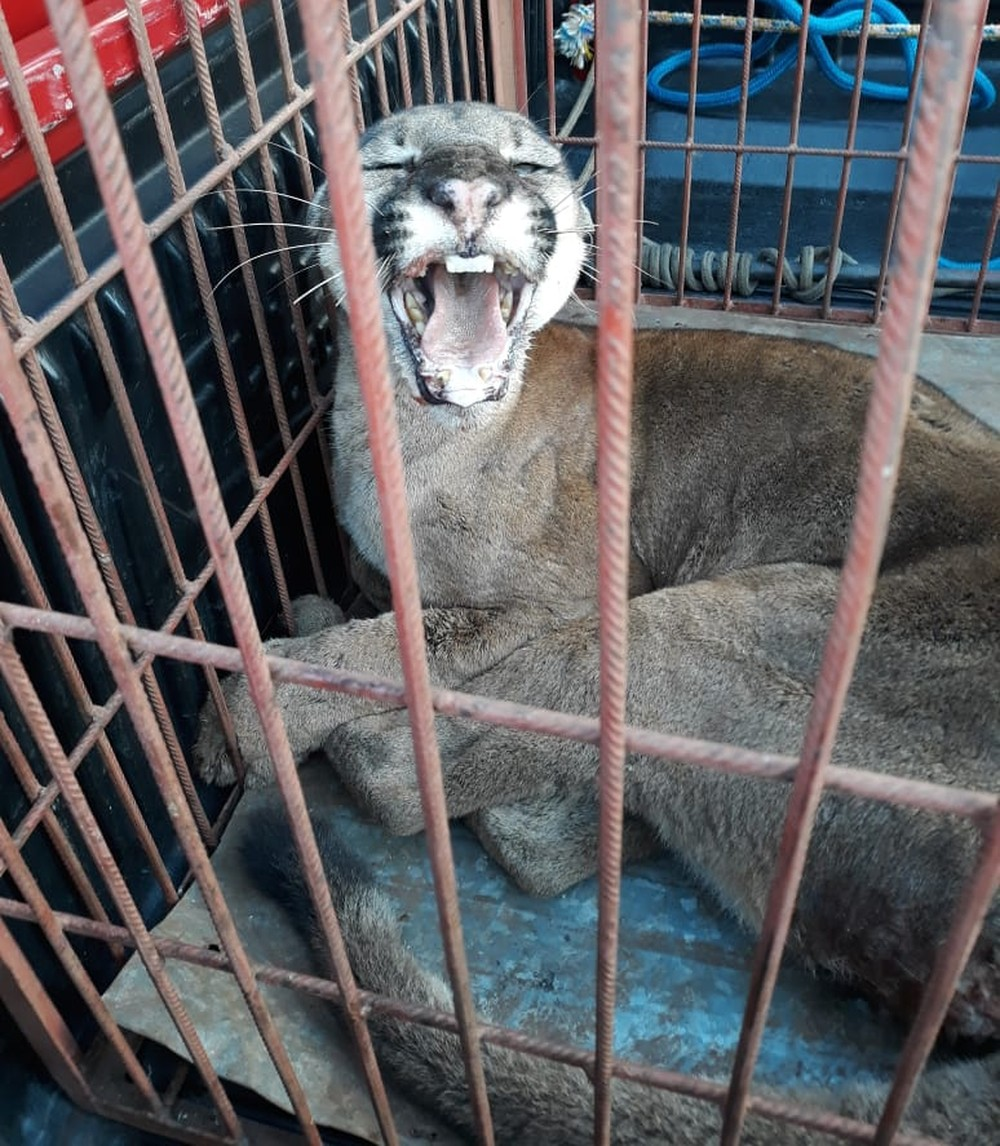OncaParda: (184, 95, 990, 1043)
